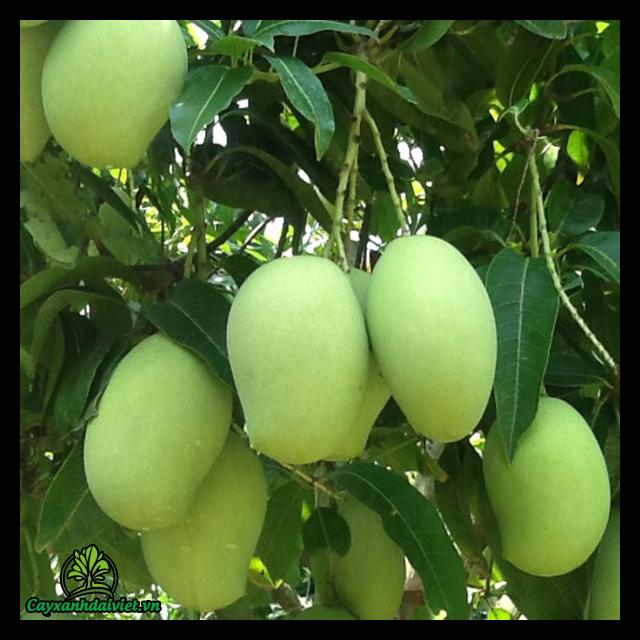xoai: (227, 255, 369, 463), (84, 330, 230, 528), (366, 234, 497, 443), (482, 399, 610, 577), (42, 20, 191, 168)
